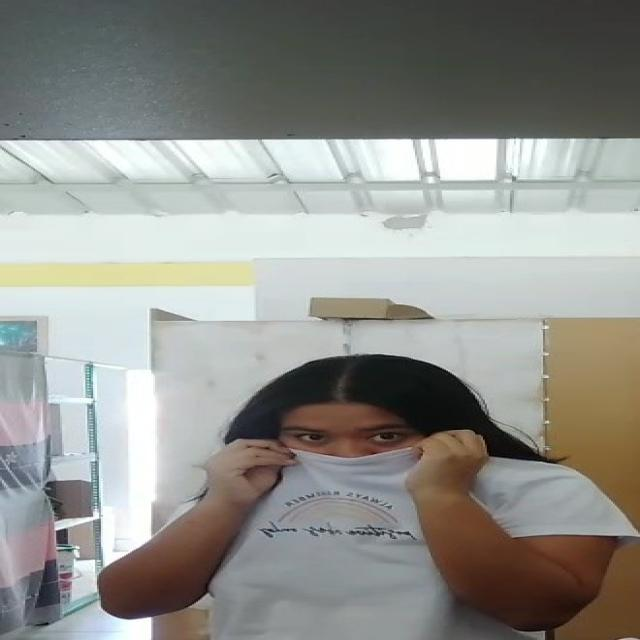8_ropa_rostro: (227, 435, 497, 527)
